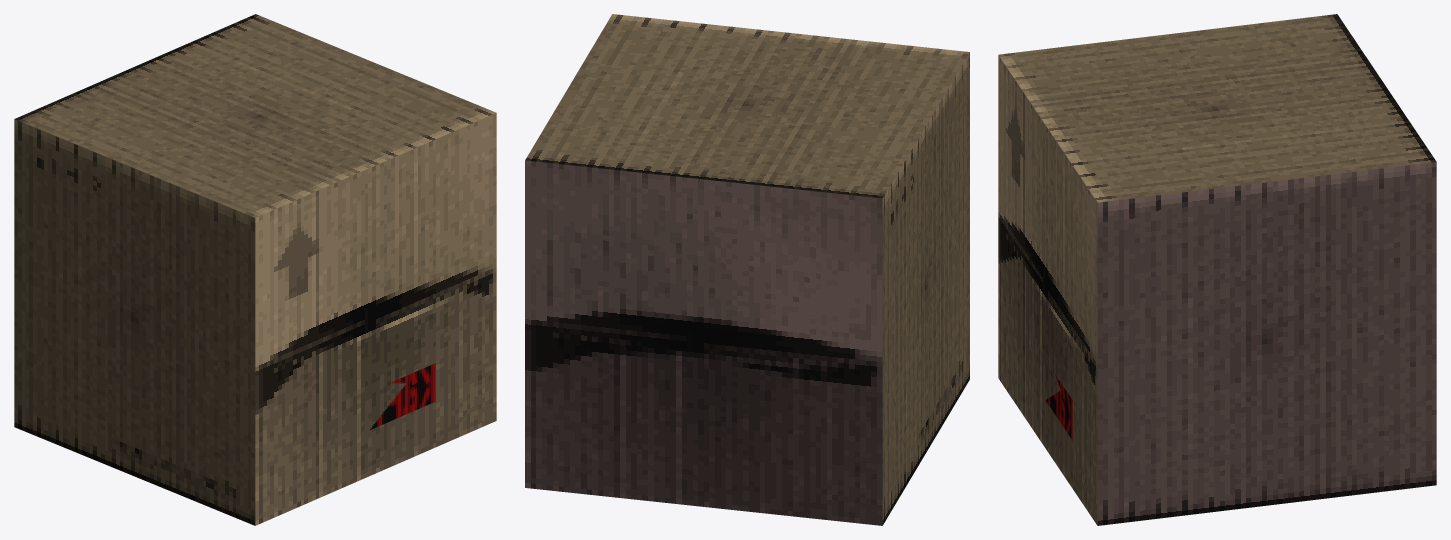
Rendered from primary_164.glb.
3 views of the same model, side by side, from view 1: azimuth 30°, elevation 25°; view 2: azimuth 150°, elevation 25°; view 3: azimuth 270°, elevation 25° (orthographic). The views are drawn at different scales.
Parts seen in each view (by area): view 1: Object; view 2: Object; view 3: Object.
Boxes of the visible parts, x1=… form: Object: x1=14, y1=14, x2=496, y2=525; Object: x1=525, y1=14, x2=969, y2=525; Object: x1=998, y1=14, x2=1436, y2=525.
Bounding box in the file's own units: 1.37 × 1.09 × 1.34.
7 materials, 7 textured.
